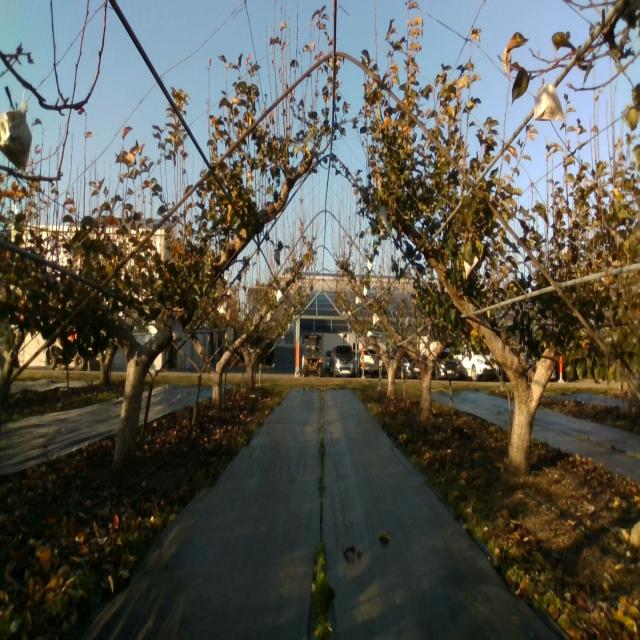pearbags: (0, 100, 32, 173), (532, 77, 563, 124), (377, 206, 389, 230), (172, 322, 184, 344)
